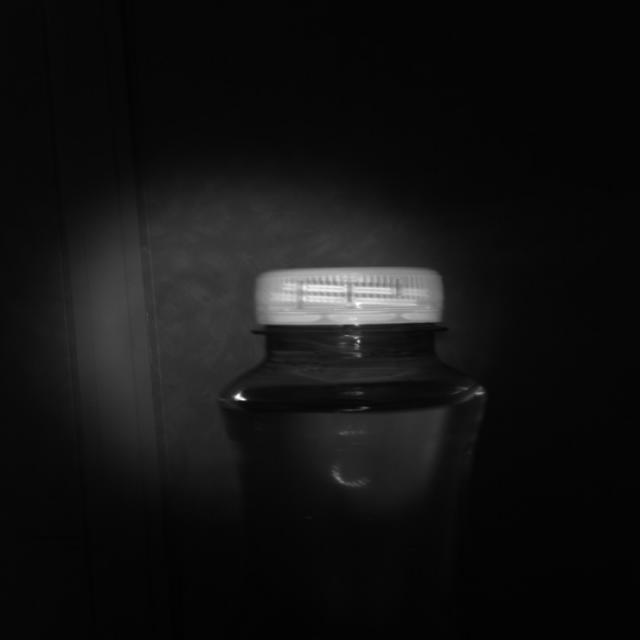Good: (254, 263, 445, 330)
